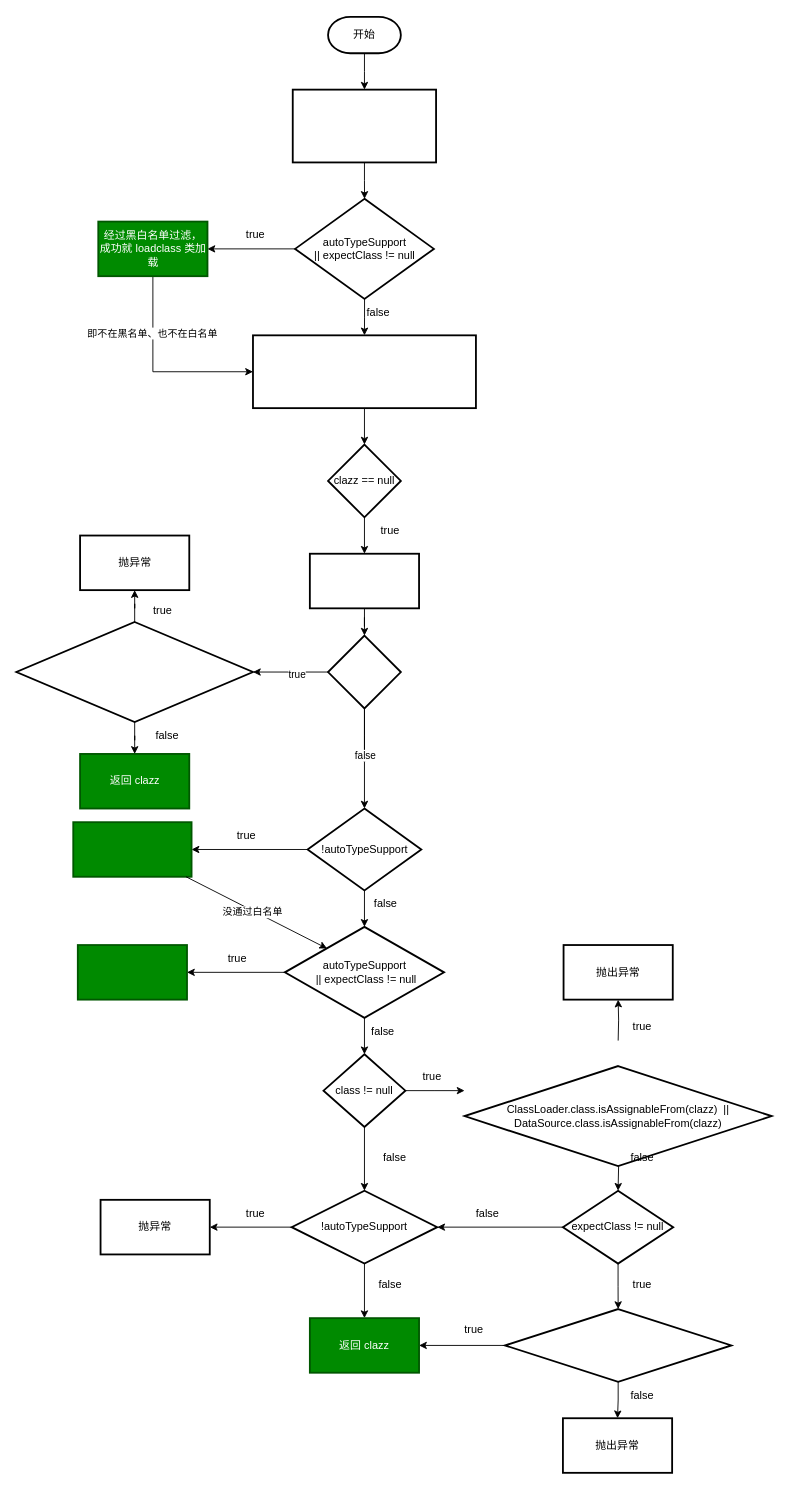
This 788x1489 diagram has some shape labels left out. Here are the shapes that lost their labels. From the top down, the centre of each, then its label:
At [364,125]: "传入参数： typeName 为传入的全类名，expectClass 一般为 null".
At [364,371]: "Class<?> clazz = TypeUtils.getClassFromMapping(typeName) 表示从缓存中去找，clazz 就是寻找的结果".
At [364,580]: "到各个反序列化器中去寻找".
At [134,672]: "expectClass != null && !expectClass.isAssignableFrom(clazz)".
At [364,671]: "clazz != null".
At [132,849]: "再经过黑白名单过滤， 通过过滤就 loadClass".
At [131,972]: "loadClass(typeName, defaultClassLoader)".
At [618,1345]: "expectClass.isAssignableFrom(clazz)".
